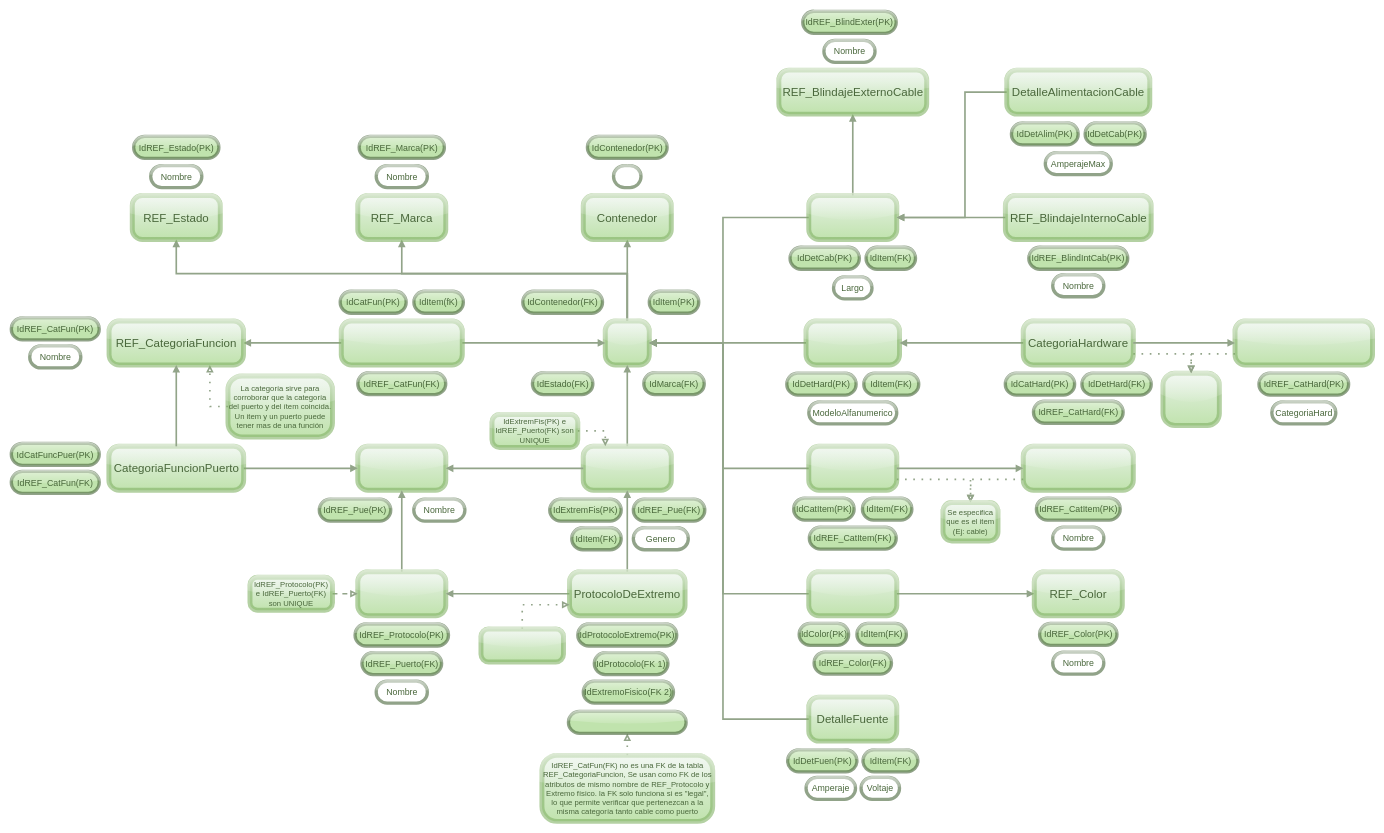
Some shapes in this 1384 by 833 pixel diagram are drawn without their labels. The centre of each missing label's shape, as x and y in pixels:
"CategoriaFuncionItem" belongs at point 401,342.
"CategoriaItem" belongs at point 852,468.
"Color" belongs at point 852,593.
"DetalleCable" belongs at point 852,217.
"DetalleHardware" belongs at point 852,342.
"ExtremoFisico" belongs at point 627,468.
"IdREF_CatFun(FK 1)(FK 2)" belongs at point 627,722.
"Item" belongs at point 627,342.
"Las dos FK son compuestas" belongs at point 522,645.
"QR" belongs at point 627,176.
"REF_CategoriaHardware" belongs at point 1303,342.
"REF_CategoriaItem" belongs at point 1078,468.
"REF_Protocolo" belongs at point 401,593.
"REF_Puerto" belongs at point 401,468.
"Se especifica que tipo de hardware es (Ej: Periférico, PC,TV)" belongs at point 1191,399.
